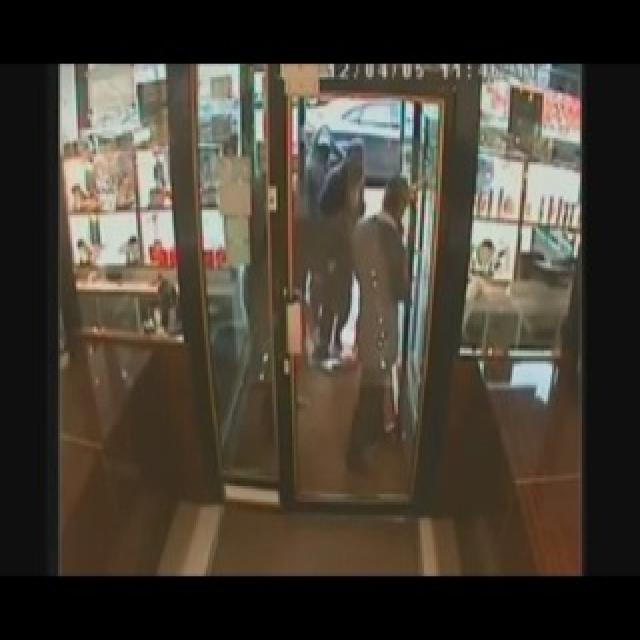burglary: (300, 101, 388, 341)
